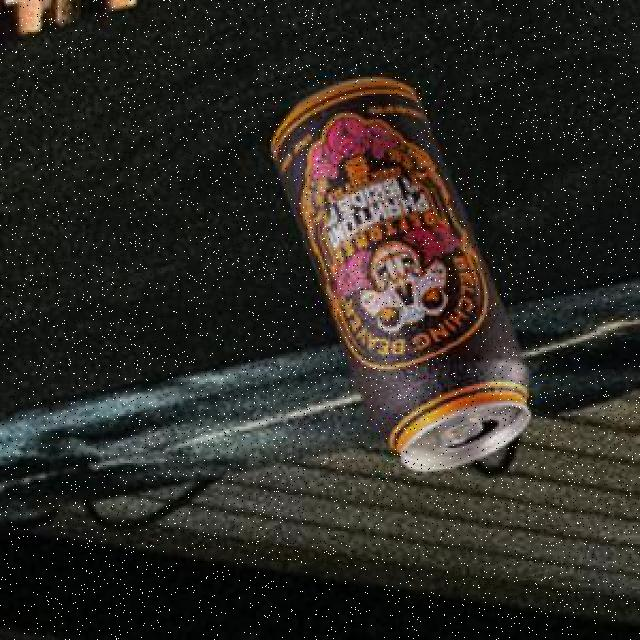Metal: (271, 80, 531, 471)
